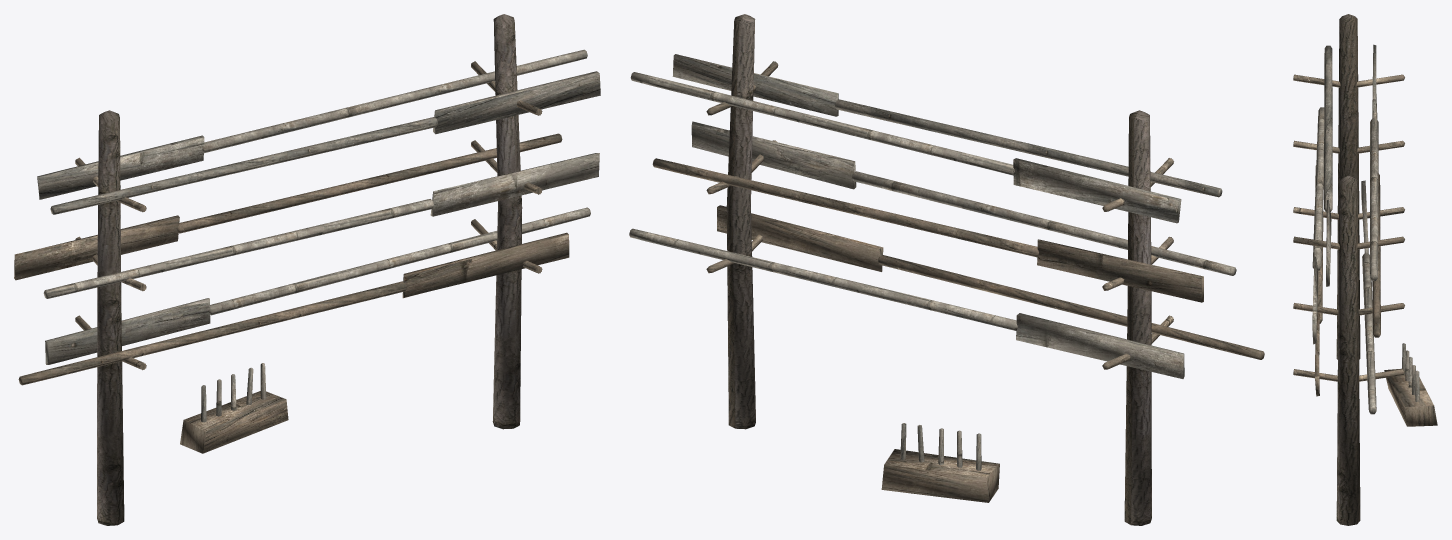
The model's file is kit_sf_oar_rack_p.glb.
3 views of the same model, side by side, from view 1: azimuth 30°, elevation 25°; view 2: azimuth 150°, elevation 25°; view 3: azimuth 270°, elevation 25° (orthographic). The views are drawn at different scales.
Visible parts, largest first — view 1: kit_sf_oar_rack_p; view 2: kit_sf_oar_rack_p; view 3: kit_sf_oar_rack_p.
Boxes of the visible parts, x1,y1,x2,y2 form: kit_sf_oar_rack_p: (14, 14, 600, 525); kit_sf_oar_rack_p: (629, 14, 1264, 525); kit_sf_oar_rack_p: (1293, 14, 1437, 525).
Size of the model in its own units: 3.18 by 2.08 by 0.7912.
1 material, 1 textured.
